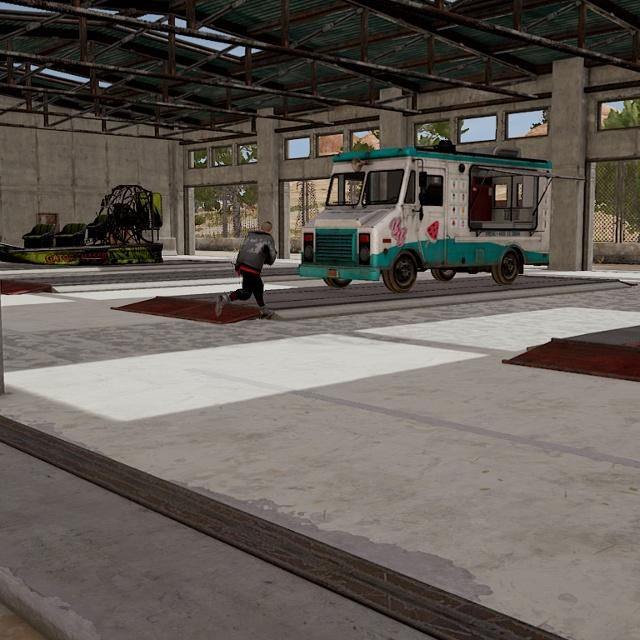head: (259, 219, 274, 235)
people: (214, 219, 279, 321)
